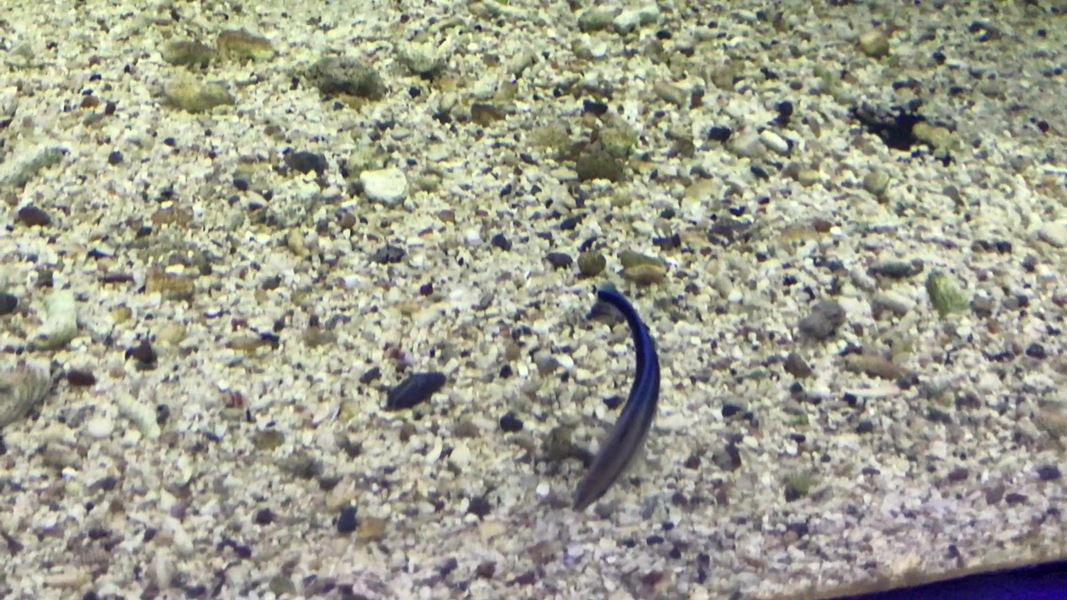Bluesteak cleaner wrasse: (560, 277, 676, 527)
